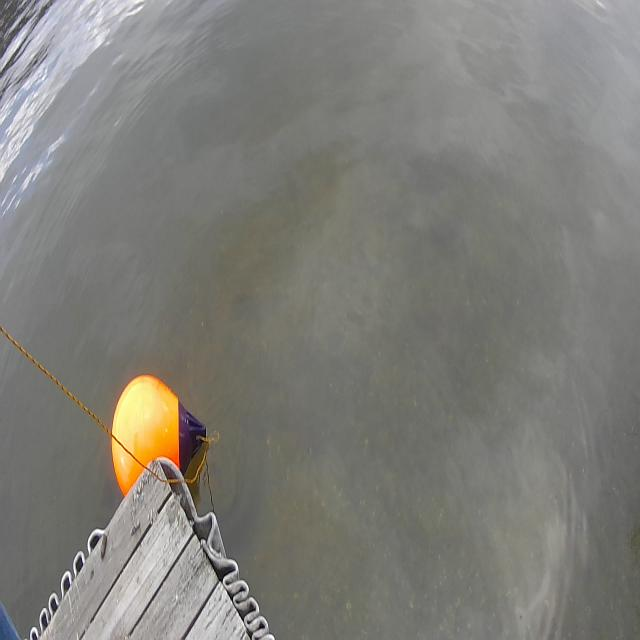Buoy: (106, 368, 185, 497)
